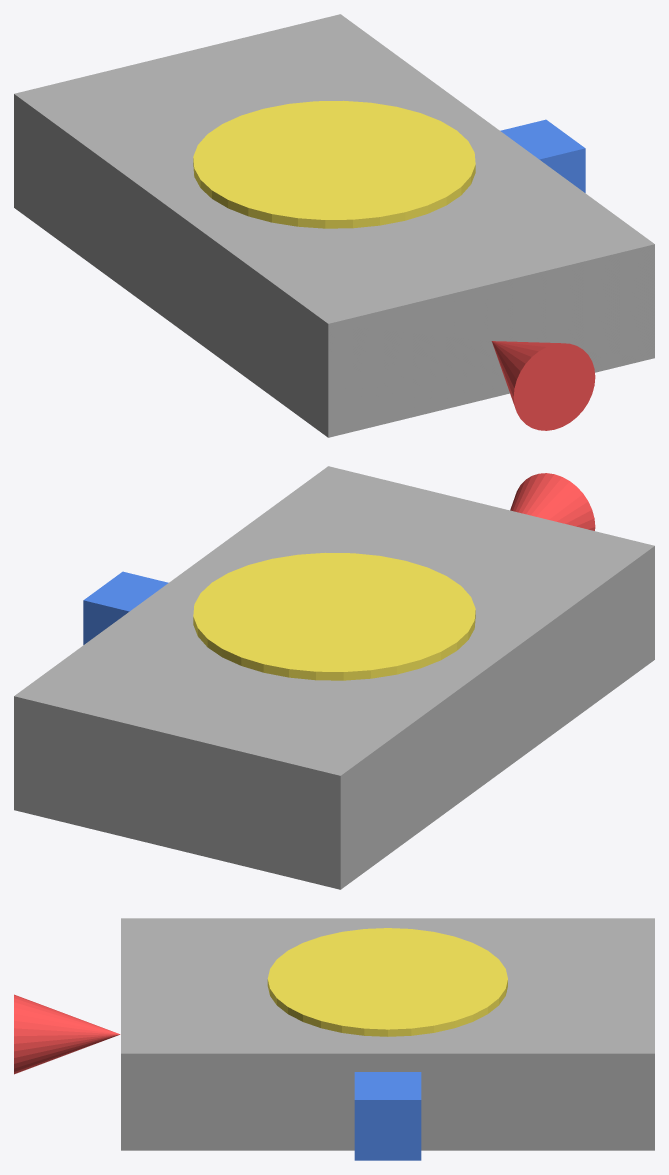
File: calib_hull_axes.glb
3 renders of one model, top to bottom at view 1: azimuth 30°, elevation 25°; view 2: azimuth 150°, elevation 25°; view 3: azimuth 270°, elevation 25°, orthographic. The views are drawn at different scales.
Parts seen in each view (by area): view 1: hull_body, ring_seat, front_marker, side_marker_right; view 2: hull_body, ring_seat, front_marker, side_marker_right; view 3: hull_body, ring_seat, side_marker_right, front_marker.
Part boxes in pixels (bbox=[...]): hull_body: bbox=[14, 14, 654, 437]; ring_seat: bbox=[193, 100, 475, 228]; front_marker: bbox=[491, 341, 595, 430]; side_marker_right: bbox=[500, 119, 585, 192]; hull_body: bbox=[14, 466, 654, 889]; ring_seat: bbox=[193, 552, 475, 680]; front_marker: bbox=[510, 473, 595, 530]; side_marker_right: bbox=[83, 571, 168, 644]; hull_body: bbox=[121, 918, 654, 1150]; ring_seat: bbox=[267, 928, 507, 1036]; side_marker_right: bbox=[354, 1072, 421, 1160]; front_marker: bbox=[14, 994, 120, 1074].
Size of the model in its own units: 2.9 by 0.86 by 4.8.
